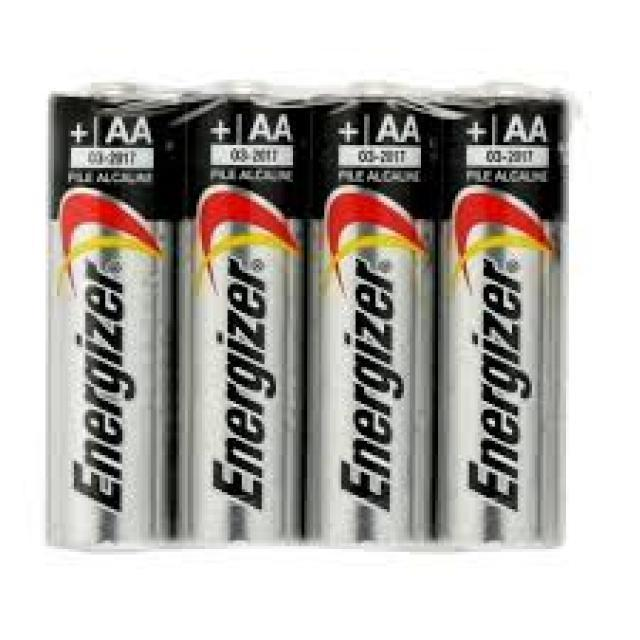Hazard: (438, 82, 573, 558), (42, 79, 176, 558), (308, 84, 440, 552), (183, 77, 305, 553)
